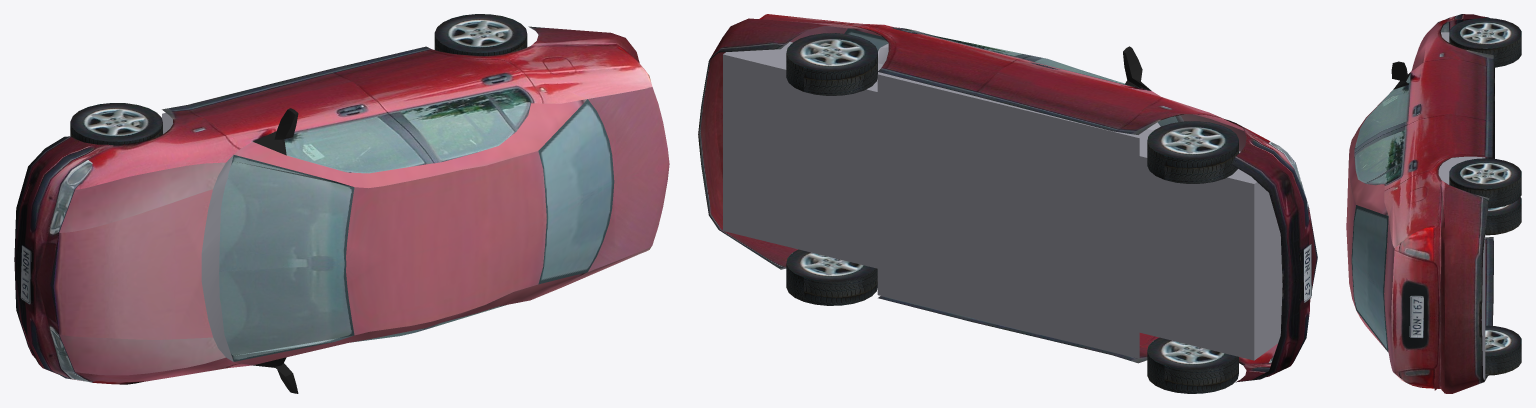
File: Car_12.obj
The picture shows the model from 3 angles, left to right: view 1: azimuth 30°, elevation 25°; view 2: azimuth 150°, elevation 25°; view 3: azimuth 270°, elevation 25°; orthographic projection. The views are drawn at different scales.
Parts seen in each view (by area): view 1: _2body, _2tyres, _2fill, _2tyresurf, _2plates; view 2: _2fill, _2body, _2tyres, _2tyresurf; view 3: _2body, _2tyres, _2tyresurf, _2fill, _2plates.
Boxes of the visible parts, x1,y1,x2,y2 form: _2body: (14,26,669,393); _2tyres: (70,14,527,141); _2fill: (162,113,267,361); _2tyresurf: (70,33,527,144); _2plates: (20,245,31,304); _2fill: (723,42,1282,360); _2body: (698,14,1317,382); _2tyres: (786,33,1238,369); _2tyresurf: (786,53,1238,393); _2body: (1346,14,1494,393); _2tyres: (1449,18,1521,356); _2tyresurf: (1449,36,1521,375); _2fill: (1397,32,1485,379); _2plates: (1409,295,1423,338).
Size of the model in its own units: 4.73 by 2.08 by 1.49.
